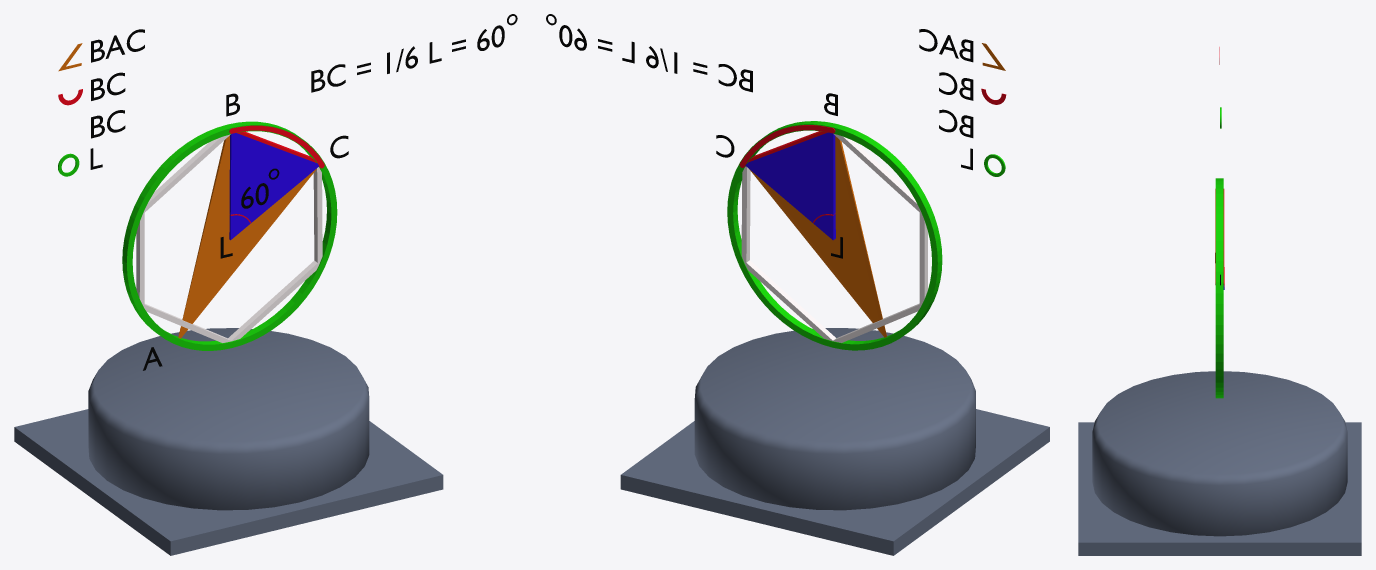
The picture shows the model from 3 angles, left to right: view 1: azimuth 30°, elevation 25°; view 2: azimuth 150°, elevation 25°; view 3: azimuth 270°, elevation 25°; orthographic projection. The views are drawn at different scales.
Parts seen in each view (by area): view 1: подставка, круг мадафака, улг мадафака, Plane.001, шестиугольник, Text.003, Cylinder.001; view 2: подставка, круг мадафака, улг мадафака, Plane.001, шестиугольник, Text.003, Cylinder.001; view 3: подставка, круг мадафака.
Part boxes in pixels (x1=…): подставка: x1=14, y1=328, x2=443, y2=555; круг мадафака: x1=122, y1=121, x2=337, y2=350; улг мадафака: x1=178, y1=135, x2=316, y2=338; Plane.001: x1=229, y1=133, x2=318, y2=240; шестиугольник: x1=136, y1=134, x2=322, y2=342; Text.003: x1=311, y1=25, x2=504, y2=92; Cylinder.001: x1=229, y1=125, x2=324, y2=168; подставка: x1=620, y1=328, x2=1049, y2=555; круг мадафака: x1=727, y1=121, x2=942, y2=350; улг мадафака: x1=749, y1=136, x2=886, y2=337; Plane.001: x1=745, y1=132, x2=835, y2=240; шестиугольник: x1=741, y1=134, x2=927, y2=342; Text.003: x1=559, y1=25, x2=752, y2=92; Cylinder.001: x1=739, y1=125, x2=835, y2=167; подставка: x1=1078, y1=371, x2=1361, y2=555; круг мадафака: x1=1215, y1=178, x2=1223, y2=398.
Size of the model in its own units: 15.42 by 14.7 by 9.09.
